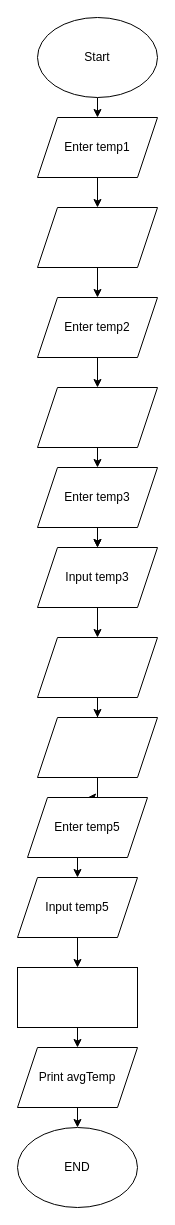
Some shapes in this 175 by 1225 pixel diagram are drawn without their labels. Here are the shapes that lost their labels. From the top down, the centre of each, then its label:
point 97,237: Input temp1
point 97,417: Input temp2
point 97,667: Enter temp4
point 97,747: Input temp4
point 77,997: avgTemp = (temp1 + temp2 + temp3 + temp4 + temp5) / 5
